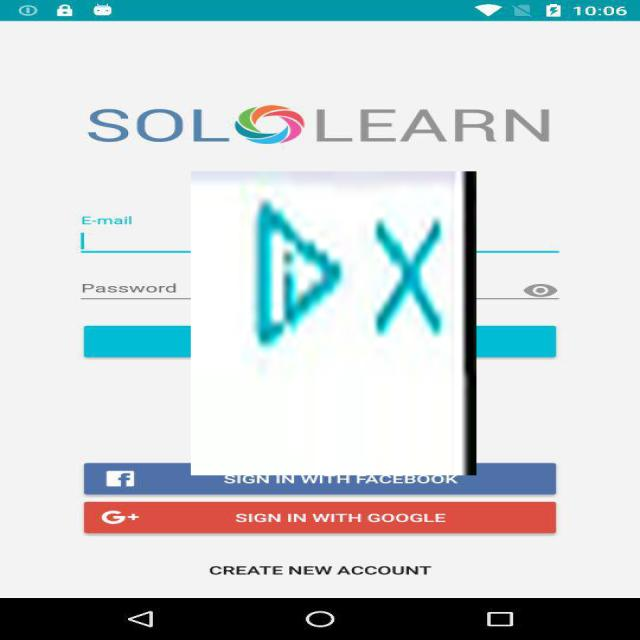sneaking: (191, 172, 476, 476)
